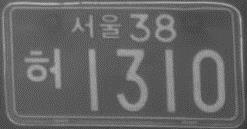0: (191, 48, 225, 114)
1: (84, 47, 103, 113), (162, 47, 179, 115)
3: (114, 47, 150, 112), (127, 11, 151, 42)
8: (155, 12, 178, 43)
서울_O: (70, 13, 124, 41)
허: (23, 47, 64, 90)
